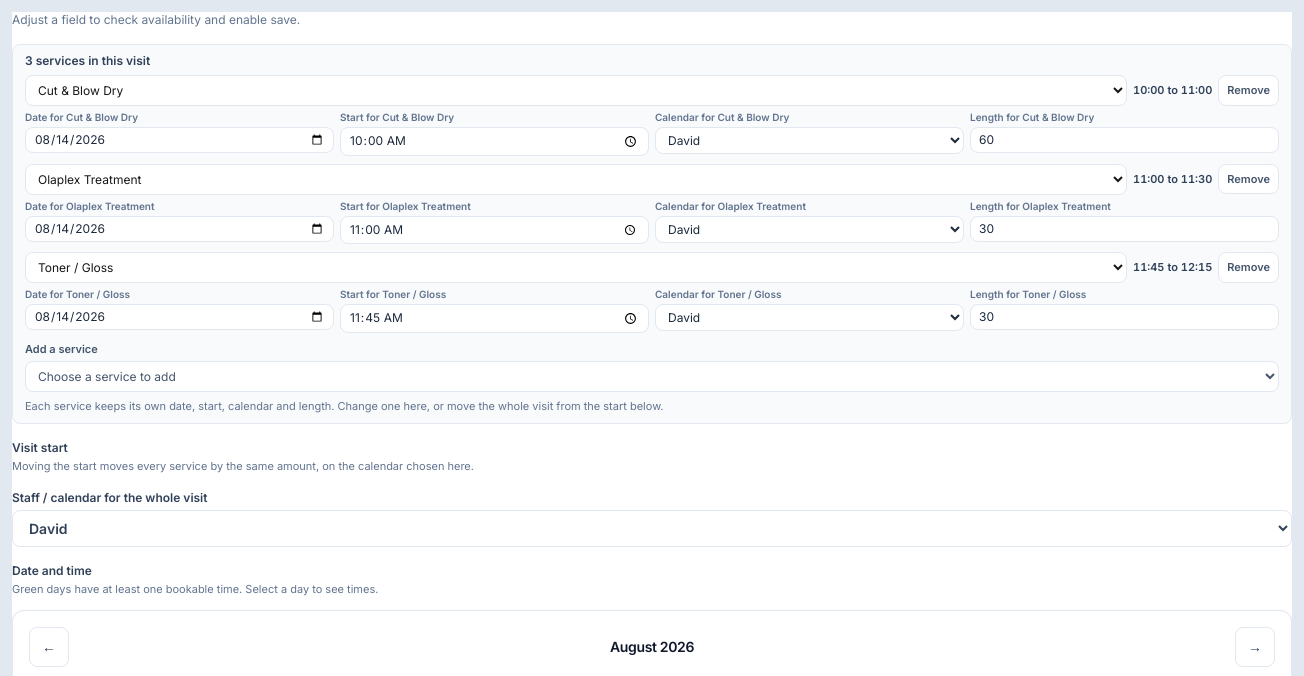
Scenario: StaffAppointmentModifyForm on a multi-service visit › changing one service › is checked through the per-service mode, naming only the service that changed
Replace the text in the number field labelled "Length for Olaplex Treatment" with "45" at [1124, 229], box left=970, top=216, right=1279, bottom=242
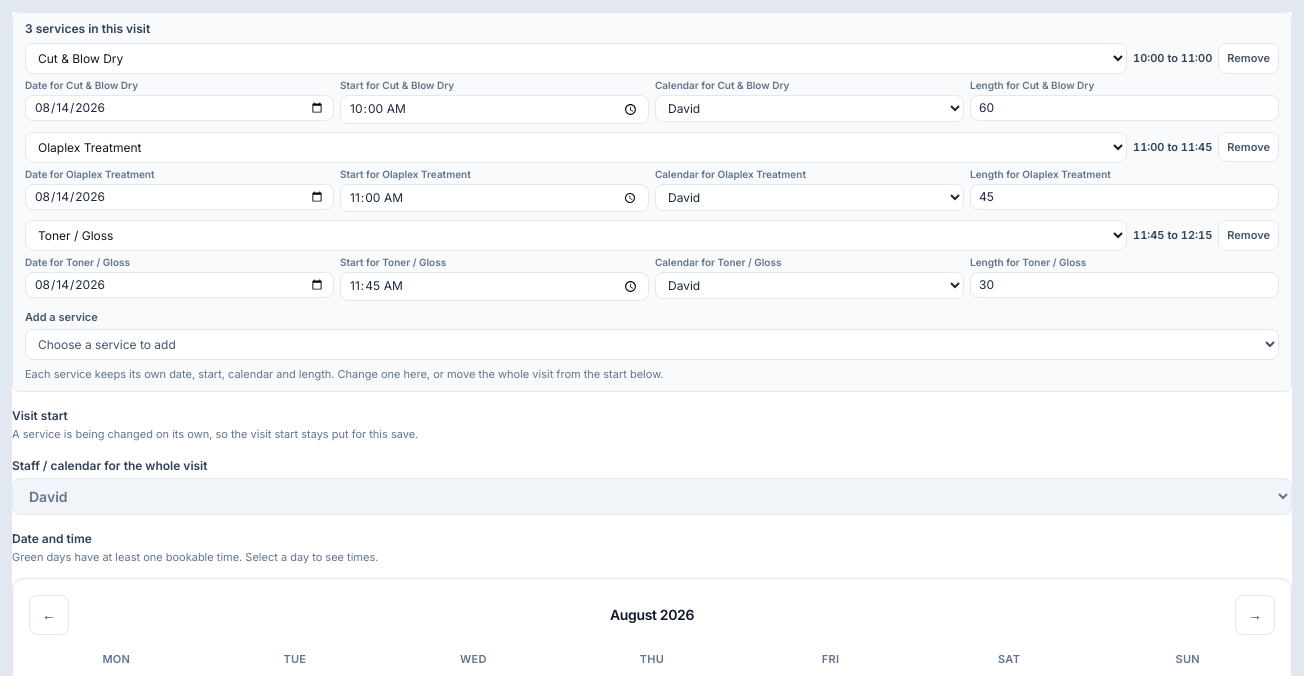
Expected: the text "11:00 to 11:45" is shown, left=1133, top=139, right=1212, bottom=155
